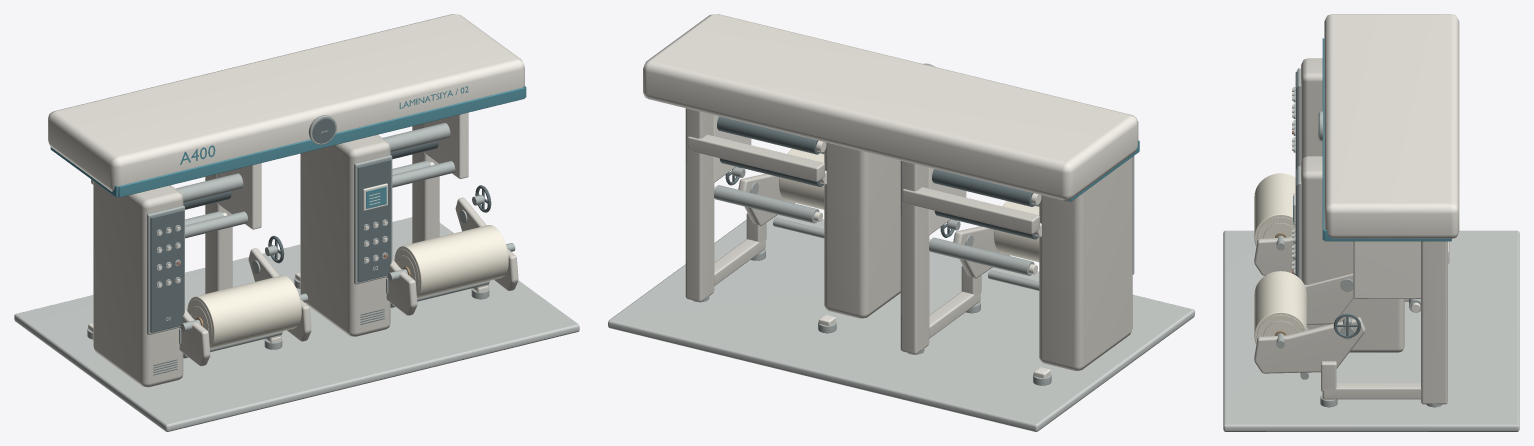
File: laminatsiya-2-clay.glb
3 views of the same model, side by side, from view 1: azimuth 30°, elevation 25°; view 2: azimuth 150°, elevation 25°; view 3: azimuth 270°, elevation 25° (orthographic). The views are drawn at different scales.
Parts seen in each view (by area): view 1: A400 · Clay · chalk edges, A400 · Clay · studio floor, A400 · Clay · warm porcelain, A400 · Clay · slate recess, A400 · Clay · satin ceramic rollers, A400 · Clay · laminator muted blue, A400 · Unit 1 · paper reel.001, A400 · Unit 2 · paper reel.001; view 2: A400 · Clay · warm porcelain, A400 · Clay · chalk edges, A400 · Clay · studio floor, A400 · Clay · satin ceramic rollers, A400 · Clay · slate recess, A400 · Unit 2 · paper reel.001, A400 · Unit 1 · paper reel.001; view 3: A400 · Clay · chalk edges, A400 · Clay · studio floor, A400 · Clay · warm porcelain, A400 · Unit 2 · paper reel.001, A400 · Unit 1 · paper reel.001, A400 · Clay · satin ceramic rollers, A400 · Clay · laminator muted blue, A400 · Clay · slate recess.
Part boxes in pixels (<box>): A400 · Clay · chalk edges: <box>48,14,524,342</box>; A400 · Clay · studio floor: <box>14,217,579,431</box>; A400 · Clay · warm porcelain: <box>91,123,518,387</box>; A400 · Clay · slate recess: <box>118,118,491,375</box>; A400 · Clay · satin ceramic rollers: <box>87,115,515,358</box>; A400 · Clay · laminator muted blue: <box>50,86,526,208</box>; A400 · Unit 1 · paper reel.001: <box>187,275,301,348</box>; A400 · Unit 2 · paper reel.001: <box>394,225,508,298</box>; A400 · Clay · warm porcelain: <box>685,108,1132,370</box>; A400 · Clay · chalk edges: <box>643,14,1138,378</box>; A400 · Clay · studio floor: <box>608,214,1194,431</box>; A400 · Clay · satin ceramic rollers: <box>693,63,1134,385</box>; A400 · Clay · slate recess: <box>717,116,1069,239</box>; A400 · Unit 2 · paper reel.001: <box>779,148,824,209</box>; A400 · Unit 1 · paper reel.001: <box>994,201,1039,262</box>; A400 · Clay · chalk edges: <box>1292,14,1459,399</box>; A400 · Clay · studio floor: <box>1223,230,1519,431</box>; A400 · Clay · warm porcelain: <box>1254,58,1449,404</box>; A400 · Unit 2 · paper reel.001: <box>1254,271,1306,343</box>; A400 · Unit 1 · paper reel.001: <box>1254,173,1295,246</box>; A400 · Clay · satin ceramic rollers: <box>1276,68,1442,407</box>; A400 · Clay · laminator muted blue: <box>1293,38,1451,241</box>; A400 · Clay · slate recess: <box>1295,71,1360,338</box>.
Size of the model in its own units: 5 by 2.7 by 3.2.
